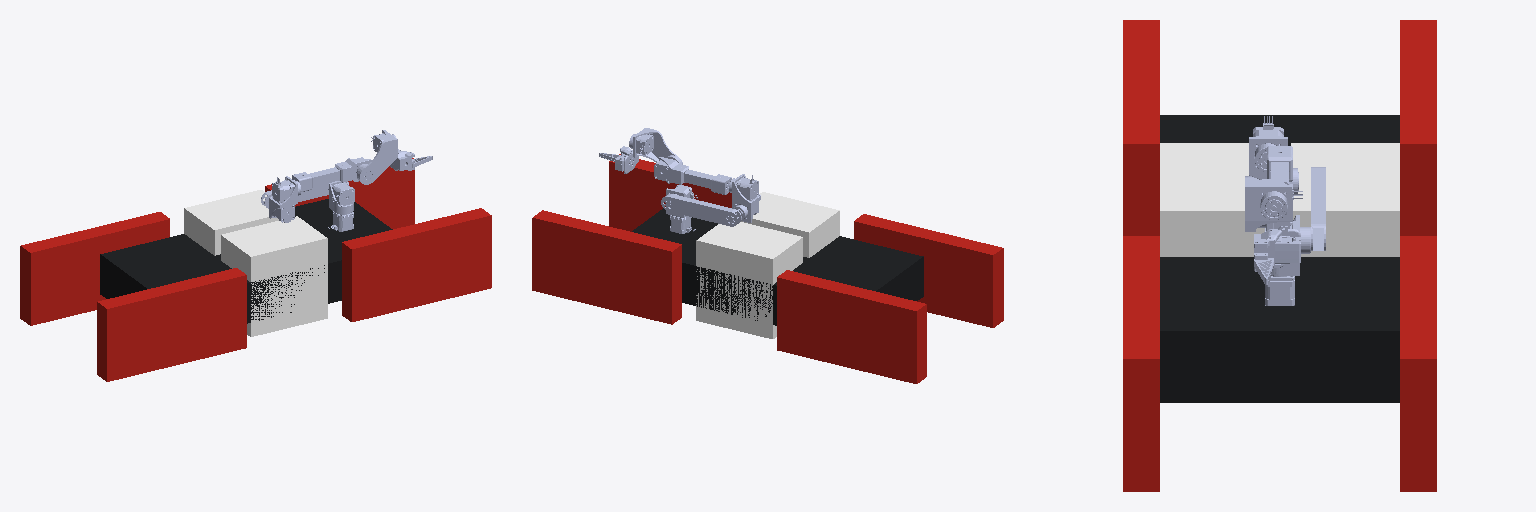
robot.urdf — Lotti2:
<?xml version="1.0" ?>
<!-- =================================================================================== -->
<!-- |    This document was autogenerated by xacro from Lotti.urdf.xacro               | -->
<!-- |    EDITING THIS FILE BY HAND IS NOT RECOMMENDED                                 | -->
<!-- =================================================================================== -->
<robot name="Lotti2">
  <material name="red">
    <color rgba="0.8 0.17254901960784313 0.1411764705882353 1"/>
  </material>
  <material name="black">
    <color rgba="0.15294117647058825 0.1607843137254902 0.16862745098039217 1"/>
  </material>
  <material name="orange">
    <color rgba="1.0 0.6470588235294118 0.0 1"/>
  </material>
  <material name="white">
    <color rgba="1.0 1.0 1.0 1"/>
  </material>
  <joint name="arm_base_joint" type="fixed">
    <origin rpy="0 0 0" xyz="0.24999999999999997 0 0.15"/>
    <parent link="body_link"/>
    <child link="arm_base_link"/>
  </joint>
  <link name="arm_base_link">
    <inertial>
      <origin rpy="0 0 0" xyz="-0.0002249 -1.7664E-07 0.028417"/>
      <mass value="0.095547"/>
      <inertia ixx="2.247E-05" ixy="-3.7313E-10" ixz="-2.9379E-07" iyy="2.2991E-05" iyz="-1.4294E-10" izz="2.4917E-05"/>
    </inertial>
    <visual>
      <origin rpy="0 0 0" xyz="0 0 0"/>
      <geometry>
        <mesh filename="package://lotti2_control/description/meshes/arm_base_link.STL"/>
      </geometry>
      <material name="">
        <color rgba="0.79216 0.81961 0.93333 1"/>
      </material>
    </visual>
    <collision>
      <origin rpy="0 0 0" xyz="0 0 0"/>
      <geometry>
        <mesh filename="package://lotti2_control/description/meshes/arm_base_link.STL"/>
      </geometry>
    </collision>
  </link>
  <link name="arm1_link">
    <inertial>
      <origin rpy="0 0 0" xyz="0.00015473 0.0066378 0.039559"/>
      <mass value="0.13887"/>
      <inertia ixx="4.3388E-05" ixy="2.9379E-07" ixz="3.6171E-10" iyy="4.8223E-05" iyz="-4.4856E-06" izz="4.5877E-05"/>
    </inertial>
    <visual>
      <origin rpy="0 0 0" xyz="0 0 0"/>
      <geometry>
        <mesh filename="package://lotti2_control/description/meshes/arm1_link.STL"/>
      </geometry>
      <material name="">
        <color rgba="0.79216 0.81961 0.93333 1"/>
      </material>
    </visual>
    <collision>
      <origin rpy="0 0 0" xyz="0 0 0"/>
      <geometry>
        <mesh filename="package://lotti2_control/description/meshes/arm1_link.STL"/>
      </geometry>
    </collision>
  </link>
  <joint name="arm1_joint" type="revolute">
    <origin rpy="0 0 0" xyz="0 0 0.048"/>
    <parent link="arm_base_link"/>
    <child link="arm1_link"/>
    <axis xyz="0 0 -1"/>
    <limit effort="0" lower="-3.0" upper="3.0" velocity="0"/>
  </joint>
  <link name="arm2_link">
    <inertial>
      <origin rpy="0 0 0" xyz="-0.09 0.009887 -2.6229E-15"/>
      <mass value="0.044594"/>
      <inertia ixx="1.1591E-05" ixy="-2.6124E-20" ixz="-5.3542E-20" iyy="0.00016075" iyz="-9.8066E-22" izz="0.00015494"/>
    </inertial>
    <visual>
      <origin rpy="0 0 0" xyz="0 0 0"/>
      <geometry>
        <mesh filename="package://lotti2_control/description/meshes/arm2_link.STL"/>
      </geometry>
      <material name="">
        <color rgba="0.79216 0.81961 0.93333 1"/>
      </material>
    </visual>
    <collision>
      <origin rpy="0 0 -0.2" xyz="0 0 0"/>
      <geometry>
        <mesh filename="package://lotti2_control/description/meshes/arm2_link.STL"/>
      </geometry>
    </collision>
  </link>
  <joint name="arm2_joint" type="revolute">
    <origin rpy="0 0 0" xyz="0 0.04285 0.04755"/>
    <parent link="arm1_link"/>
    <child link="arm2_link"/>
    <axis xyz="0 1 0"/>
    <limit effort="0" lower="-0.1" upper="3.2" velocity="0"/>
  </joint>
  <link name="arm3_link">
    <inertial>
      <origin rpy="0 0 0" xyz="0.0037748 -0.022075 0.02755"/>
      <mass value="0.23565"/>
      <inertia ixx="7.7834E-05" ixy="1.2652E-06" ixz="-4.8745E-06" iyy="7.7833E-05" iyz="4.8747E-06" izz="7.3141E-05"/>
    </inertial>
    <visual>
      <origin rpy="0 0 0" xyz="0 0 0"/>
      <geometry>
        <mesh filename="package://lotti2_control/description/meshes/arm3_link.STL"/>
      </geometry>
      <material name="">
        <color rgba="0.79216 0.81961 0.93333 1"/>
      </material>
    </visual>
    <collision>
      <origin rpy="0 0 0" xyz="0 0 0"/>
      <geometry>
        <mesh filename="package://lotti2_control/description/meshes/arm3_link.STL"/>
      </geometry>
    </collision>
  </link>
  <joint name="arm3_joint" type="revolute">
    <origin rpy="0 0.0 0" xyz="-0.18 -0.017 0"/>
    <parent link="arm2_link"/>
    <child link="arm3_link"/>
    <axis xyz="0 1 0"/>
    <limit effort="0" lower="-3.5" upper="0.1" velocity="0"/>
  </joint>
  <link name="arm4_link">
    <inertial>
      <origin rpy="0 0 0" xyz="0.13759 -0.0029301 7.5985E-05"/>
      <mass value="0.14345"/>
      <inertia ixx="3.2616E-05" ixy="2.1538E-06" ixz="8.6476E-11" iyy="9.3258E-05" iyz="-8.6904E-08" izz="8.4066E-05"/>
    </inertial>
    <visual>
      <origin rpy="0 0 0" xyz="0 0 0"/>
      <geometry>
        <mesh filename="package://lotti2_control/description/meshes/arm4_link.STL"/>
      </geometry>
      <material name="">
        <color rgba="0.79216 0.81961 0.93333 1"/>
      </material>
    </visual>
    <collision>
      <origin rpy="0 0 0" xyz="0 0 0"/>
      <geometry>
        <mesh filename="package://lotti2_control/description/meshes/arm4_link.STL"/>
      </geometry>
    </collision>
  </link>
  <joint name="arm4_joint" type="revolute">
    <origin rpy="0 0 0" xyz="0.04285 -0.02585 0.0551"/>
    <parent link="arm3_link"/>
    <child link="arm4_link"/>
    <axis xyz="1 0 0"/>
    <limit effort="0" lower="-3.5" upper="3.5" velocity="0"/>
  </joint>
  <link name="arm5_link">
    <inertial>
      <origin rpy="0 0 0" xyz="0.063464 0.023999 0.0010452"/>
      <mass value="0.10145"/>
      <inertia ixx="2.9716E-05" ixy="-6.7226E-06" ixz="-1.6102E-06" iyy="3.9581E-05" iyz="-1.1874E-06" izz="4.0743E-05"/>
    </inertial>
    <visual>
      <origin rpy="0 0 0" xyz="0 0 0"/>
      <geometry>
        <mesh filename="package://lotti2_control/description/meshes/arm5_link.STL"/>
      </geometry>
      <material name="">
        <color rgba="0.79216 0.81961 0.93333 1"/>
      </material>
    </visual>
    <collision>
      <origin rpy="0 0 0" xyz="0 0 0"/>
      <geometry>
        <mesh filename="package://lotti2_control/description/meshes/arm5_link.STL"/>
      </geometry>
    </collision>
  </link>
  <joint name="arm5_joint" type="revolute">
    <origin rpy="0 0 0" xyz="0.18185 -0.0325 0"/>
    <parent link="arm4_link"/>
    <child link="arm5_link"/>
    <axis xyz="0 -1 0"/>
    <limit effort="0" lower="-3.5" upper="3.5" velocity="0"/>
  </joint>
  <link name="arm6_link">
    <inertial>
      <origin rpy="0 0 0" xyz="0.012243 -5.2736E-16 0"/>
      <mass value="0.016119"/>
      <inertia ixx="2.0956E-06" ixy="2.3665E-20" ixz="3.1918E-21" iyy="2.6467E-06" iyz="-1.192E-14" izz="2.6067E-06"/>
    </inertial>
    <visual>
      <origin rpy="0 0 0" xyz="0 0 0"/>
      <geometry>
        <mesh filename="package://lotti2_control/description/meshes/arm6_link.STL"/>
      </geometry>
      <material name="">
        <color rgba="0.79216 0.81961 0.93333 1"/>
      </material>
    </visual>
    <collision>
      <origin rpy="0 0 0" xyz="0 0 0"/>
      <geometry>
        <mesh filename="package://lotti2_control/description/meshes/arm6_link.STL"/>
      </geometry>
    </collision>
  </link>
  <joint name="arm6_joint" type="revolute">
    <origin rpy="0 0 0" xyz="0.096443 0.0316 0"/>
    <parent link="arm5_link"/>
    <child link="arm6_link"/>
    <axis xyz="-1 0 0"/>
    <limit effort="0" lower="-3.5" upper="3.5" velocity="0"/>
  </joint>
  <!--    <joint name="world_joint" type="fixed">
    <origin xyz="0 0 0" rpy="0 0 0"/>
    <parent link="world"/>
    <child link="body_link"/>
    </joint>  -->
  <link name="body_link">
    <visual>
      <origin rpy="0 0 0" xyz="0 0 0.095"/>
      <geometry>
        <box size="0.7 0.33 0.10999999999999999"/>
      </geometry>
      <material name="black"/>
    </visual>
    <collision>
      <origin rpy="0 0 0" xyz="0 0 0.075"/>
      <geometry>
        <box size="0.1 0.1 0.1"/>
        <!-- <box size="${body_length} ${body_width} ${body_height}"/> -->
      </geometry>
    </collision>
    <innertial/>
    <!-- <xacro:inertial_box mass="${body_mass}" x="${body_length}" y="${body_width}" z="${body_height}">
            <origin rpy="0 0 0" xyz="0 0 ${(body_height/2)}"/>
        </xacro:inertial_box> -->
  </link>
  <!-- Left Chain-->
  <joint name="left_chain_joint" type="continuous">
    <origin rpy="0 0 0" xyz="0 0.09000000000000001 0.11"/>
    <parent link="body_link"/>
    <child link="left_chain_link"/>
    <axis xyz="0 -1 0"/>
  </joint>
  <link name="left_chain_link">
    <visual>
      <origin rpy="0 0 0" xyz="0 0 0"/>
      <geometry>
        <box size="0.22 0.15 0.22"/>
      </geometry>
      <material name="white"/>
    </visual>
    <collision>
      <origin rpy="1.5707963267948966 0 0" xyz="0 0 0"/>
      <geometry>
        <box size="0.22 0.15 0.22"/>
      </geometry>
    </collision>
    <inertial>
      <origin rpy="0 0 0" xyz="0 0 0"/>
      <mass value="1"/>
      <inertia ixx="0.005908333333333332" ixy="0.0" ixz="0.0" iyy="0.008066666666666666" iyz="0.0" izz="0.008066666666666666"/>
    </inertial>
  </link>
  <!-- Right Chain-->
  <joint name="right_chain_joint" type="continuous">
    <origin rpy="0 0 0" xyz="0 -0.09000000000000001 0.11"/>
    <parent link="body_link"/>
    <child link="right_chain_link"/>
    <axis xyz="0 1 0"/>
  </joint>
  <link name="right_chain_link">
    <visual>
      <origin rpy="0 0 0" xyz="0 0 0"/>
      <geometry>
        <box size="0.22 0.15 0.22"/>
      </geometry>
      <material name="white"/>
    </visual>
    <collision>
      <origin rpy="1.5707963267948966 0 0" xyz="0 0 0"/>
      <geometry>
        <box size="0.22 0.15 0.22"/>
      </geometry>
    </collision>
    <inertial>
      <origin rpy="0 0 0" xyz="0 0 0"/>
      <mass value="1"/>
      <inertia ixx="0.005908333333333332" ixy="0.0" ixz="0.0" iyy="0.008066666666666666" iyz="0.0" izz="0.008066666666666666"/>
    </inertial>
  </link>
  <!-- Front Left Flipper-->
  <joint name="flipper_fr_joint" type="continuous">
    <origin rpy="0 3.141592653589793 0" xyz="0.24999999999999997 -0.19 0.1"/>
    <parent link="body_link"/>
    <child link="flipper_fr_link"/>
    <axis xyz="0 1 0"/>
  </joint>
  <link name="flipper_fr_link">
    <visual>
      <origin rpy="0 0 0" xyz="-0.1 0 0"/>
      <geometry>
        <box size="0.4 0.05 0.2"/>
      </geometry>
      <material name="red"/>
    </visual>
    <collision>
      <origin rpy="0 0 0" xyz="-0.1 0 0"/>
      <geometry>
        <box size="0.4 0.05 0.2"/>
      </geometry>
    </collision>
    <inertial>
      <origin rpy="0 0 0" xyz="-0.1 0 0"/>
      <mass value="3.0"/>
      <inertia ixx="0.010625000000000002" ixy="0.0" ixz="0.0" iyy="0.05000000000000001" iyz="0.0" izz="0.05000000000000001"/>
    </inertial>
  </link>
  <!-- Front Right Flipper-->
  <joint name="flipper_fl_joint" type="continuous">
    <origin rpy="0 3.141592653589793 0" xyz="0.24999999999999997 0.19 0.1"/>
    <parent link="body_link"/>
    <child link="flipper_fl_link"/>
    <axis xyz="0 1 0"/>
  </joint>
  <link name="flipper_fl_link">
    <visual>
      <origin rpy="0 0 0" xyz="-0.1 0 0"/>
      <geometry>
        <box size="0.4 0.05 0.2"/>
      </geometry>
      <material name="red"/>
    </visual>
    <collision>
      <origin rpy="0 0 0" xyz="-0.1 0 0"/>
      <geometry>
        <box size="0.4 0.05 0.2"/>
      </geometry>
    </collision>
    <inertial>
      <origin rpy="0 0 0" xyz="-0.1 0 0"/>
      <mass value="3.0"/>
      <inertia ixx="0.010625000000000002" ixy="0.0" ixz="0.0" iyy="0.05000000000000001" iyz="0.0" izz="0.05000000000000001"/>
    </inertial>
  </link>
  <!-- Rear Left Flipper-->
  <joint name="flipper_rr_joint" type="continuous">
    <origin rpy="0 0 0" xyz="-0.24999999999999997 -0.19 0.1"/>
    <parent link="body_link"/>
    <child link="flipper_rr_link"/>
    <axis xyz="0 -1 0"/>
  </joint>
  <link name="flipper_rr_link">
    <visual>
      <origin rpy="0 0 0" xyz="-0.1 0 0"/>
      <geometry>
        <box size="0.4 0.05 0.2"/>
      </geometry>
      <material name="red"/>
    </visual>
    <collision>
      <origin rpy="0 0 0" xyz="-0.1 0 0"/>
      <geometry>
        <box size="0.4 0.05 0.2"/>
      </geometry>
    </collision>
    <inertial>
      <origin rpy="0 0 0" xyz="-0.1 0 0"/>
      <mass value="3.0"/>
      <inertia ixx="0.010625000000000002" ixy="0.0" ixz="0.0" iyy="0.05000000000000001" iyz="0.0" izz="0.05000000000000001"/>
    </inertial>
  </link>
  <!-- Rear Right Flipper-->
  <joint name="flipper_rl_joint" type="continuous">
    <origin rpy="0 0 0" xyz="-0.24999999999999997 0.19 0.1"/>
    <parent link="body_link"/>
    <child link="flipper_rl_link"/>
    <axis xyz="0 -1 0"/>
  </joint>
  <link name="flipper_rl_link">
    <visual>
      <origin rpy="0 0 0" xyz="-0.1 0 0"/>
      <geometry>
        <box size="0.4 0.05 0.2"/>
      </geometry>
      <material name="red"/>
    </visual>
    <collision>
      <origin rpy="0 0 0" xyz="-0.1 0 0"/>
      <geometry>
        <box size="0.4 0.05 0.2"/>
      </geometry>
    </collision>
    <inertial>
      <origin rpy="0 0 0" xyz="-0.1 0 0"/>
      <mass value="3.0"/>
      <inertia ixx="0.010625000000000002" ixy="0.0" ixz="0.0" iyy="0.05000000000000001" iyz="0.0" izz="0.05000000000000001"/>
    </inertial>
  </link>
  <!-- <xacro:include filename="Lotti_lidar.xacro"/> -->
  <ros2_control name="Lotti2Flipper" rw_rate="50" type="system">
    <hardware>
      <plugin>lotti2_flipper_interface/FlipperInterface</plugin>
      <param name="device">/dev/serial/by-id/usb-FTDI_USB__-__Serial_Converter_FTA2HIEQ-if00-port0</param>
      <!--  <param name="max_torque">0.006</param> -->
      <!-- <param name="gear_ratio">1.0</param> -->
      <param name="use_hardware">0</param>
    </hardware>
    <joint name="flipper_fr_joint">
      <command_interface name="position"/>
      <state_interface name="position"/>
      <state_interface name="velocity"/>
      <state_interface name="effort"/>
      <state_interface name="temp"/>
    </joint>
    <joint name="flipper_fl_joint">
      <command_interface name="position"/>
      <state_interface name="position"/>
      <state_interface name="velocity"/>
      <state_interface name="effort"/>
      <state_interface name="temp"/>
    </joint>
    <joint name="flipper_rr_joint">
      <command_interface name="position"/>
      <state_interface name="position"/>
      <state_interface name="velocity"/>
      <state_interface name="effort"/>
      <state_interface name="temp"/>
    </joint>
    <joint name="flipper_rl_joint">
      <command_interface name="position"/>
      <state_interface name="position"/>
      <state_interface name="velocity"/>
      <state_interface name="effort"/>
      <state_interface name="temp"/>
    </joint>
  </ros2_control>
  <ros2_control name="Lotti2Chains" type="system">
    <hardware>
      <plugin>lotti2_drive_interface/DriveInterface</plugin>
      <param name="device">/dev/serial/by-id/usb-1a86_USB_Serial-if00-port0</param>
      <param name="e_conversion">21</param>
      <!-- motorRPM to eRPM equal to number of polepairs-->
      <param name="gear_ratio">9</param>
      <!-- gearbox ratio -->
      <param name="Kt">0.198</param>
      <!-- Kt value for the motor [Nm/A] -->
      <param name="use_hardware">0</param>
    </hardware>
    <joint name="left_chain_joint">
      <command_interface name="velocity"/>
      <state_interface name="position"/>
      <state_interface name="velocity"/>
      <state_interface name="effort"/>
      <state_interface name="temp"/>
    </joint>
    <joint name="right_chain_joint">
      <command_interface name="velocity"/>
      <state_interface name="position"/>
      <state_interface name="velocity"/>
      <state_interface name="effort"/>
      <state_interface name="temp"/>
    </joint>
  </ros2_control>
  <ros2_control name="Lotti2Arm" rw_rate="50" type="system">
    <hardware>
      <plugin>lotti2_arm_interface/ArmInterface</plugin>
      <param name="device"/>
      <!-- name of serial device used to sommunicate with the motors -->
      <param name="use_synchronization">0</param>
      <!-- motors can be forced to execute commands synchronously -->
      <param name="gear_ratio">25.0</param>
      <!-- gear ration of cycloidal gears in arm assembly -->
      <param name="resolution">16384</param>
      <!-- steps per one full motor rotation-->
      <param name="acceleration">100</param>
      <!-- motor acceleration | max 255-->
      <param name="use_hardware">0</param>
      <!-- set to 1 of physical hardware is used. Set to 0 if only digital representation is used -->
    </hardware>
    <joint name="arm1_joint">
      <command_interface name="position"/>
      <command_interface name="velocity"/>
      <state_interface name="position"/>
      <state_interface name="velocity"/>
    </joint>
    <joint name="arm2_joint">
      <command_interface name="position"/>
      <command_interface name="velocity"/>
      <state_interface name="position"/>
      <state_interface name="velocity"/>
    </joint>
    <joint name="arm3_joint">
      <command_interface name="position"/>
      <command_interface name="velocity"/>
      <state_interface name="position"/>
      <state_interface name="velocity"/>
    </joint>
    <joint name="arm4_joint">
      <command_interface name="position"/>
      <command_interface name="velocity"/>
      <state_interface name="position"/>
      <state_interface name="velocity"/>
    </joint>
    <joint name="arm5_joint">
      <command_interface name="position"/>
      <command_interface name="velocity"/>
      <state_interface name="position"/>
      <state_interface name="velocity"/>
    </joint>
    <joint name="arm6_joint">
      <command_interface name="position"/>
      <command_interface name="velocity"/>
      <state_interface name="position"/>
      <state_interface name="velocity"/>
    </joint>
  </ros2_control>
</robot>

--- Render facts (derived) ---
3 views of the same robot in one strip: view 1: azimuth 30°, elevation 25°; view 2: azimuth 150°, elevation 25°; view 3: azimuth 270°, elevation 25° (orthographic).
Model Lotti2 with 14 links and 13 joints (6 revolute, 6 continuous, 1 fixed), rooted at body_link, posed every joint at zero.
Links seen in each view (by area): view 1: flipper_rr_link, flipper_fr_link, body_link, right_chain_link, flipper_rl_link, left_chain_link, flipper_fl_link, arm5_link, arm4_link, arm3_link, arm1_link; view 2: flipper_fl_link, flipper_rl_link, body_link, flipper_rr_link, left_chain_link, flipper_fr_link, right_chain_link, arm2_link, arm4_link, arm3_link, arm5_link, arm6_link; view 3: body_link, left_chain_link, right_chain_link, flipper_fr_link, flipper_fl_link, flipper_rr_link, flipper_rl_link, arm5_link, arm6_link, arm3_link, arm2_link, arm4_link (+2 smaller).
Link boxes in pixels (x1,y1,x2,y2): flipper_rr_link: (97,268,246,381); flipper_fr_link: (342,208,491,321); body_link: (100,199,392,323); right_chain_link: (221,216,327,336); flipper_rl_link: (20,212,169,325); left_chain_link: (184,190,278,255); flipper_fl_link: (265,158,414,228); arm5_link: (357,130,397,184); arm4_link: (292,157,371,191); arm3_link: (269,176,301,222); arm1_link: (328,181,354,213); flipper_fl_link: (532,210,681,324); flipper_rl_link: (777,270,926,383); body_link: (632,208,923,325); flipper_rr_link: (854,214,1003,327); left_chain_link: (696,222,802,338); flipper_fr_link: (609,154,731,231); right_chain_link: (741,192,839,257); arm2_link: (661,194,741,226); arm4_link: (654,157,731,194); arm3_link: (729,174,760,222); arm5_link: (629,128,682,164); arm6_link: (599,146,638,173); body_link: (1160,115,1399,402); left_chain_link: (1291,143,1399,256); right_chain_link: (1160,143,1264,256); flipper_fr_link: (1123,236,1159,491); flipper_fl_link: (1400,236,1436,491); flipper_rr_link: (1123,20,1159,235); flipper_rl_link: (1400,20,1436,235); arm5_link: (1245,176,1302,231); arm6_link: (1254,226,1300,284); arm3_link: (1249,116,1298,193); arm2_link: (1311,167,1325,250); arm4_link: (1258,146,1292,230).
Bounding box of the posed robot: 1.1 × 0.43 × 0.3806 m (x, y, z).
Meshes: 7 distinct files referenced, 7 mesh visuals loaded (7 binary STL).
